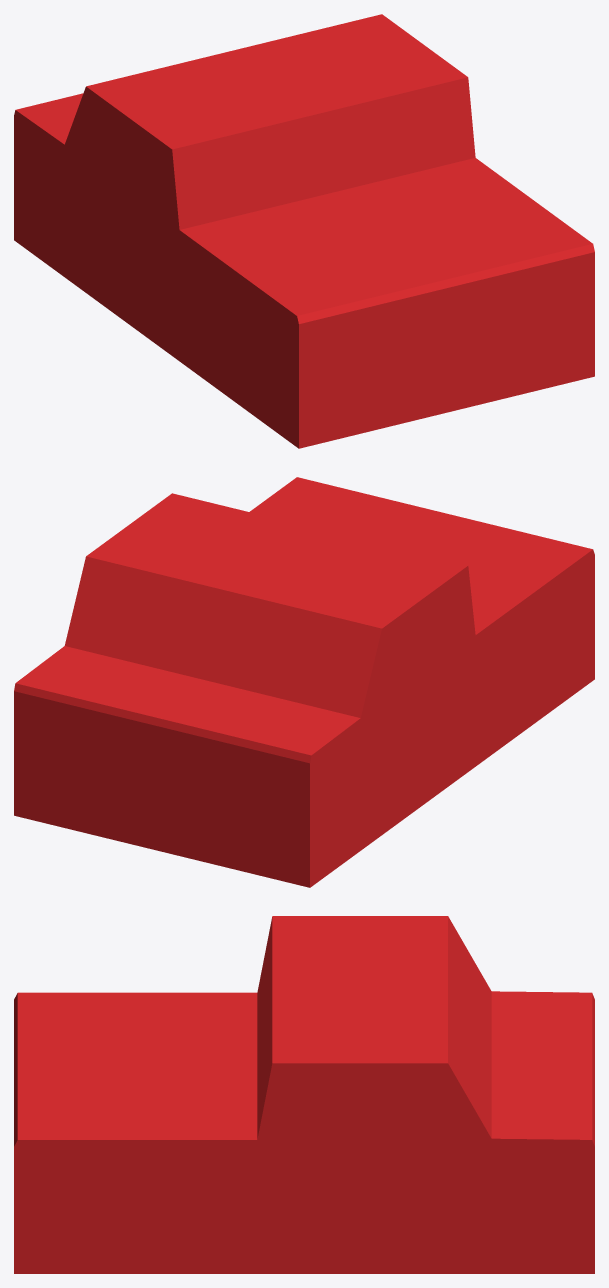
Rendered from truck.glb.
3 views of the same model, one above another, from view 1: azimuth 30°, elevation 25°; view 2: azimuth 150°, elevation 25°; view 3: azimuth 270°, elevation 25° (orthographic).
Parts seen in each view (by area): view 1: Truck; view 2: Truck; view 3: Truck.
Boxes of the visible parts, bbox=[...] form: Truck: bbox=[14, 14, 594, 448]; Truck: bbox=[14, 477, 594, 887]; Truck: bbox=[14, 916, 594, 1273].
Size of the model in its own units: 6 by 4 by 10.
